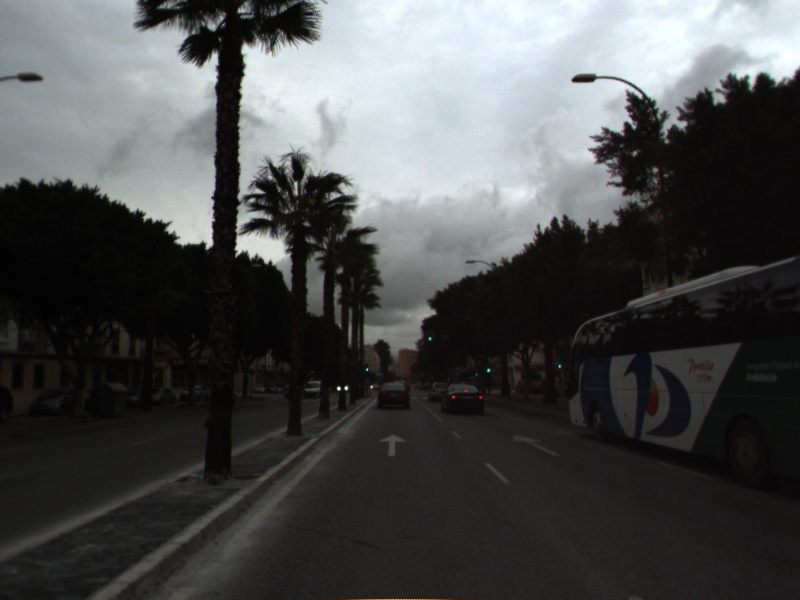STRAIGHT: (510, 432, 563, 458), (377, 432, 409, 457)
